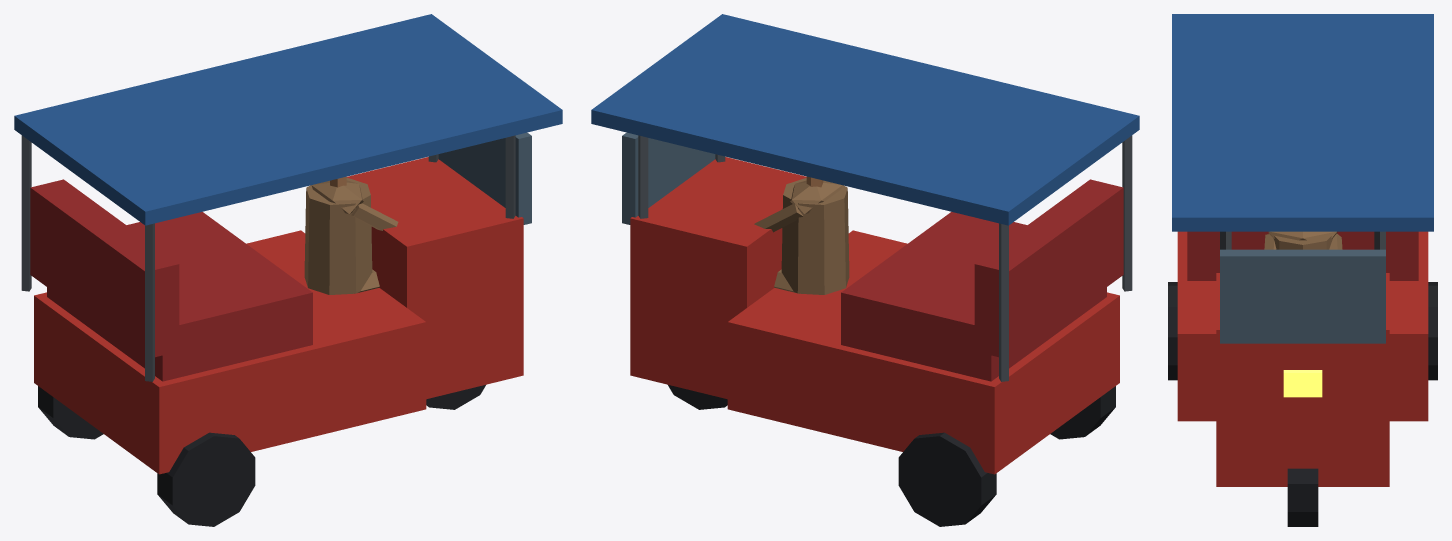
The model's file is tuktuk.glb.
3 renders of one model, left to right at view 1: azimuth 30°, elevation 25°; view 2: azimuth 150°, elevation 25°; view 3: azimuth 270°, elevation 25°, orthographic.
Visible parts, largest first — view 1: tuktuk; view 2: tuktuk; view 3: tuktuk.
Part boxes in pixels (box(x1,y1,x2,y2)): tuktuk: box(14, 14, 562, 526); tuktuk: box(591, 14, 1139, 526); tuktuk: box(1168, 14, 1437, 526).
Size of the model in its own units: 2.5 by 1.89 by 1.4.
